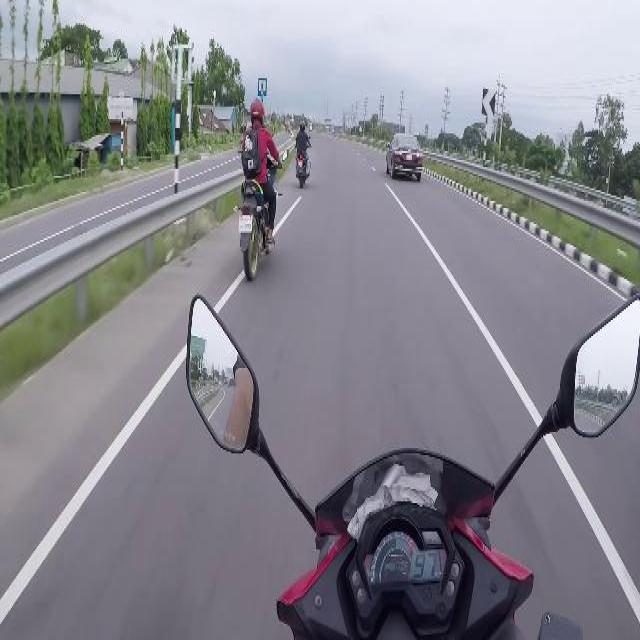car: (382, 132, 423, 178)
motorbike: (185, 287, 639, 634), (232, 95, 288, 278), (292, 118, 310, 191)
